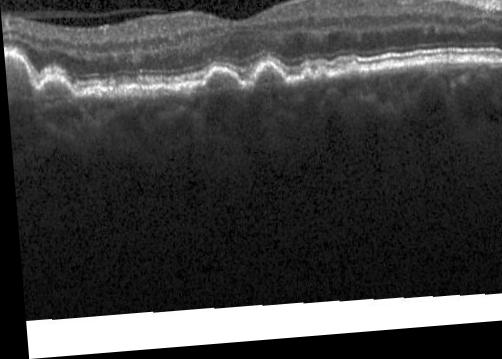retinal_drusen: (4, 54, 30, 97), (204, 73, 238, 95), (38, 79, 70, 99), (253, 70, 282, 89), (344, 70, 356, 81), (314, 74, 323, 85), (302, 75, 308, 87)
